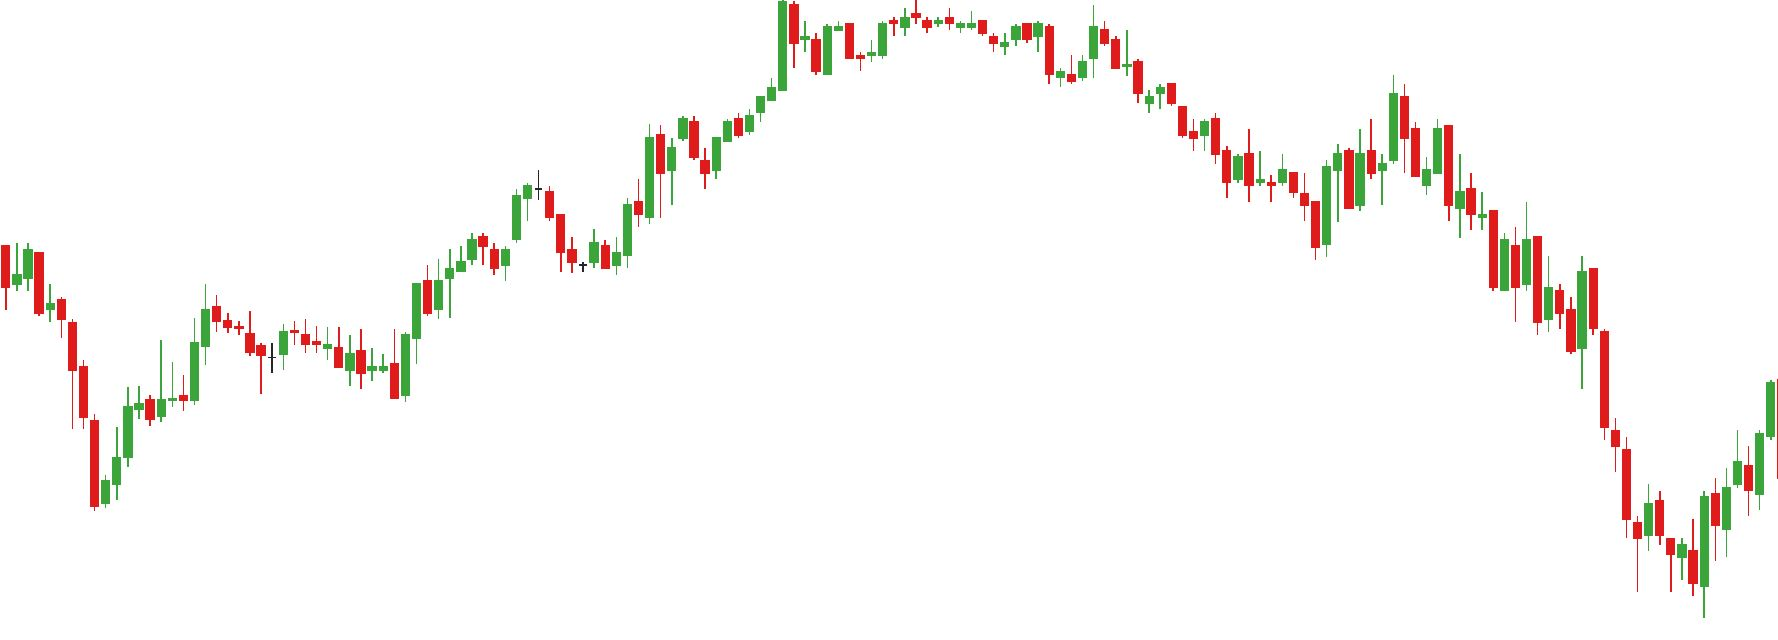sell: (1243, 75, 1409, 199), (1019, 3, 1109, 69)
